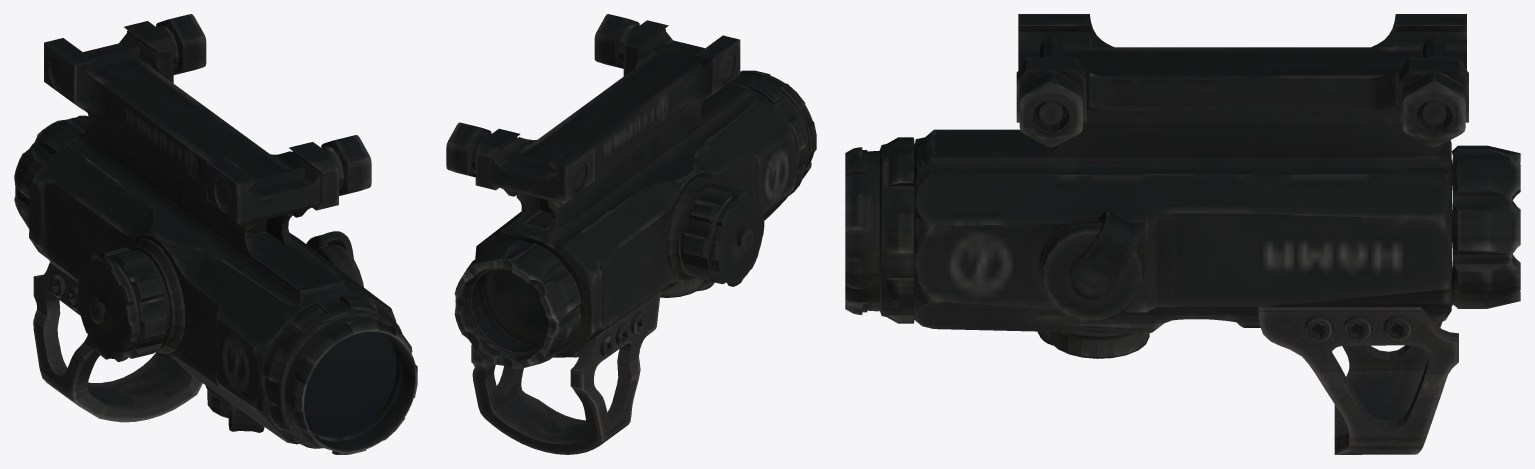
3 renders of one model, left to right at view 1: azimuth 30°, elevation 25°; view 2: azimuth 150°, elevation 25°; view 3: azimuth 270°, elevation 25°, orthographic. The views are drawn at different scales.
Visible parts, largest first — view 1: TW_544a3a774bdc2d3a388b4567_PZ_Import; view 2: TW_544a3a774bdc2d3a388b4567_PZ_Import; view 3: TW_544a3a774bdc2d3a388b4567_PZ_Import.
Part boxes in pixels (box(x1,y1,x2,y2)): TW_544a3a774bdc2d3a388b4567_PZ_Import: box(14, 14, 417, 454); TW_544a3a774bdc2d3a388b4567_PZ_Import: box(446, 14, 816, 454); TW_544a3a774bdc2d3a388b4567_PZ_Import: box(845, 14, 1520, 454).
Bounding box in the file's own units: 0.0382 × 0.0855 × 0.057.
Materials: 1 (1 with a texture image).
